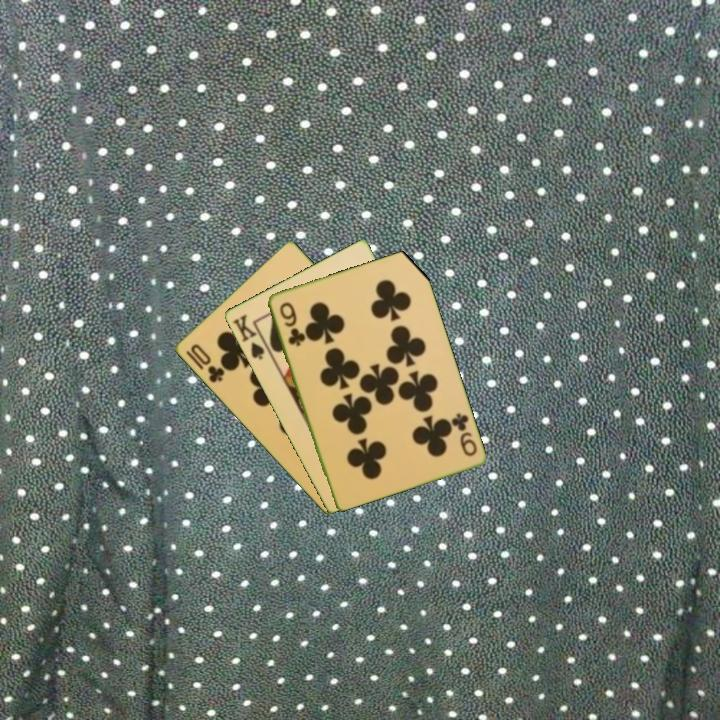10c: (186, 340, 227, 386)
9c: (447, 409, 480, 459), (276, 298, 306, 349)
Ks: (228, 311, 273, 363)
